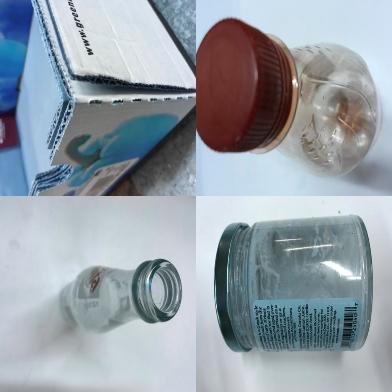cardboard: (1, 1, 196, 195), (196, 18, 380, 179)
glass: (214, 214, 374, 352), (61, 258, 182, 335)
